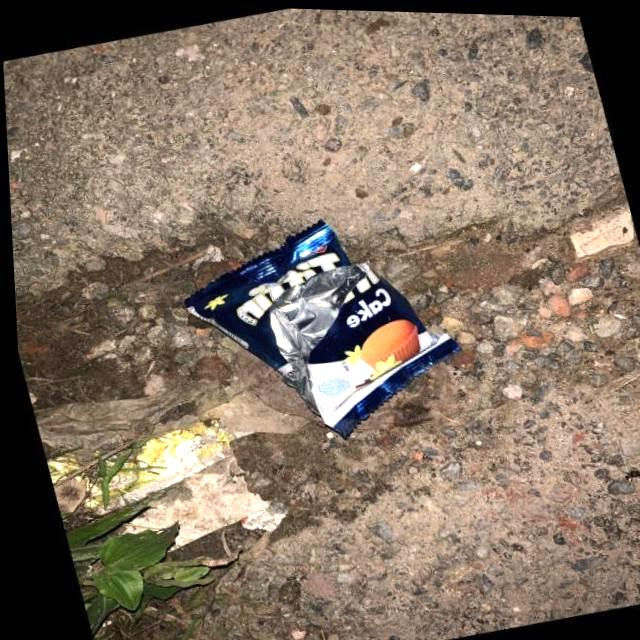packet: (172, 206, 457, 470)
